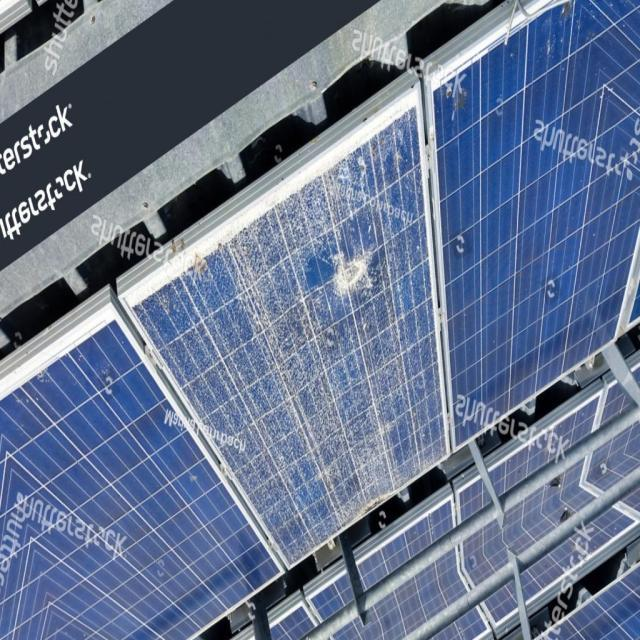cracked: (106, 85, 445, 564)
soiled: (442, 1, 633, 417)
